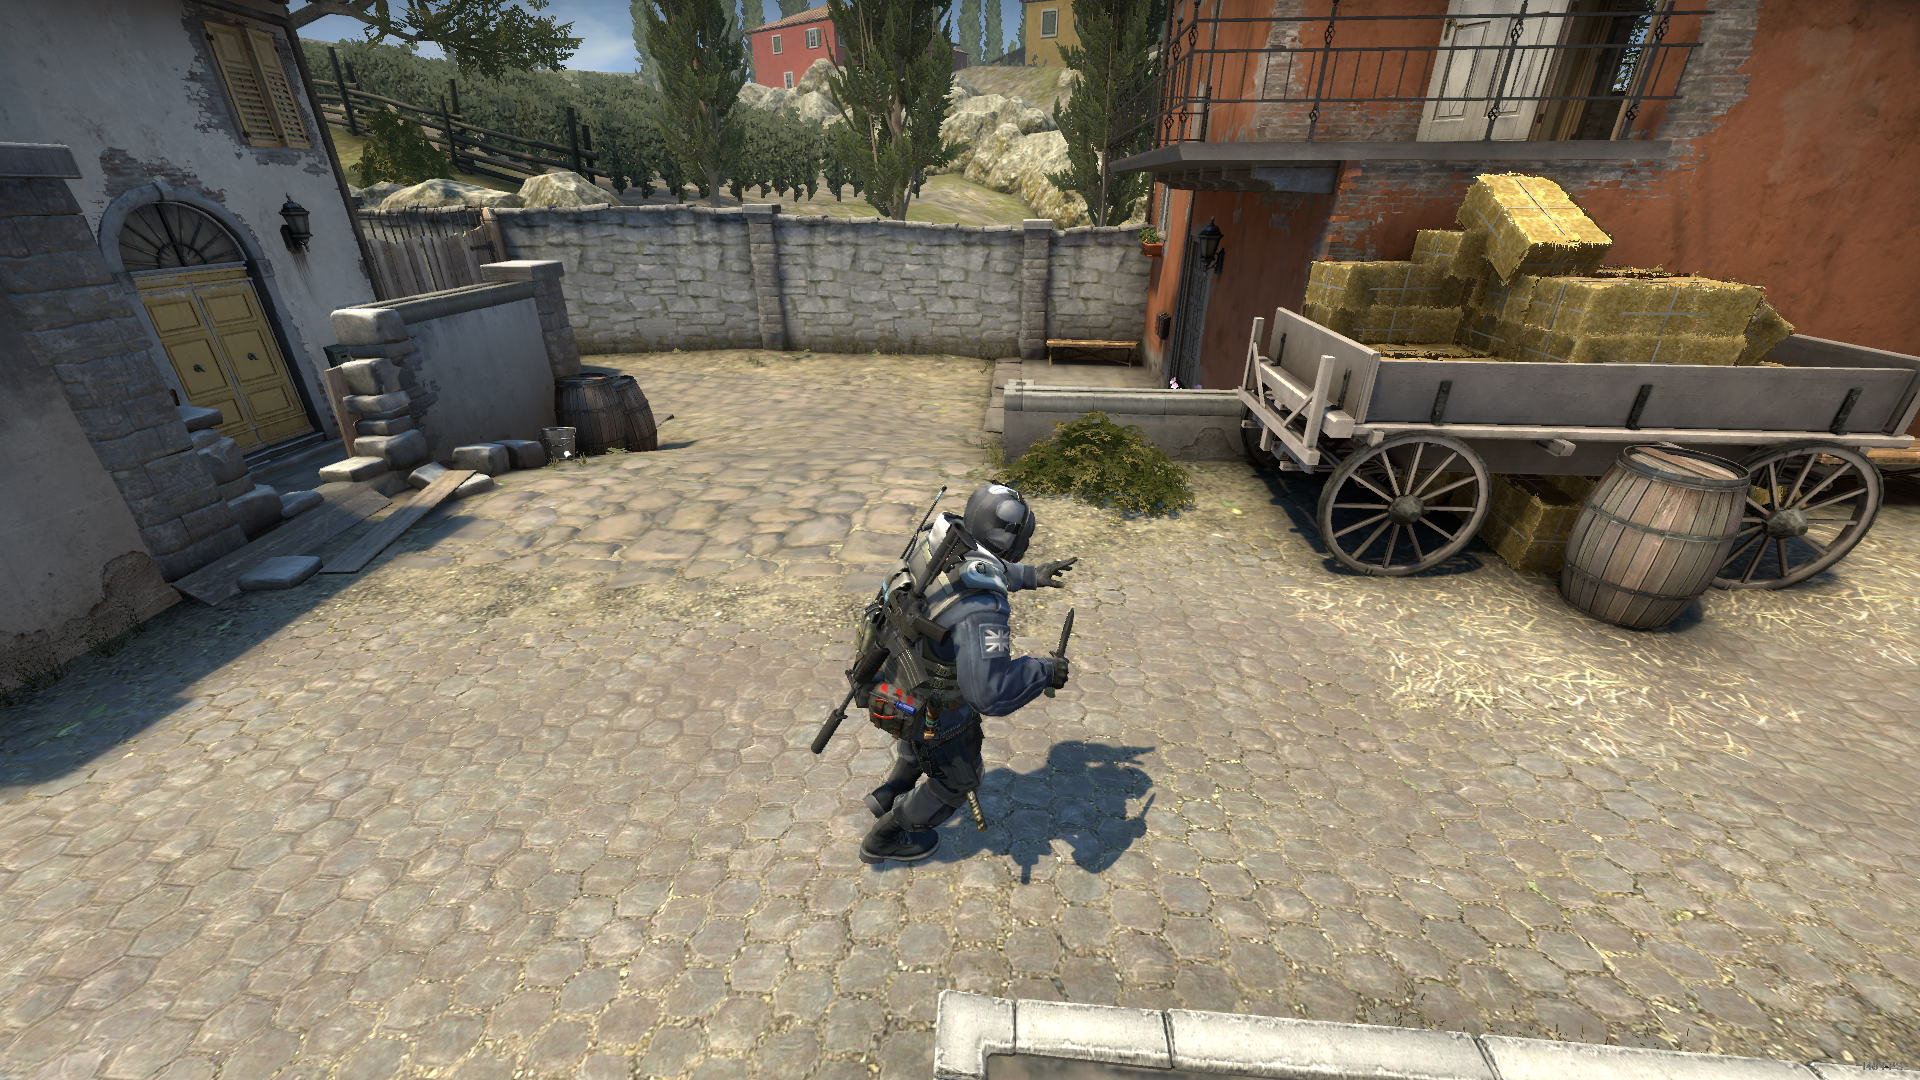ct: (851, 479, 1080, 891)
